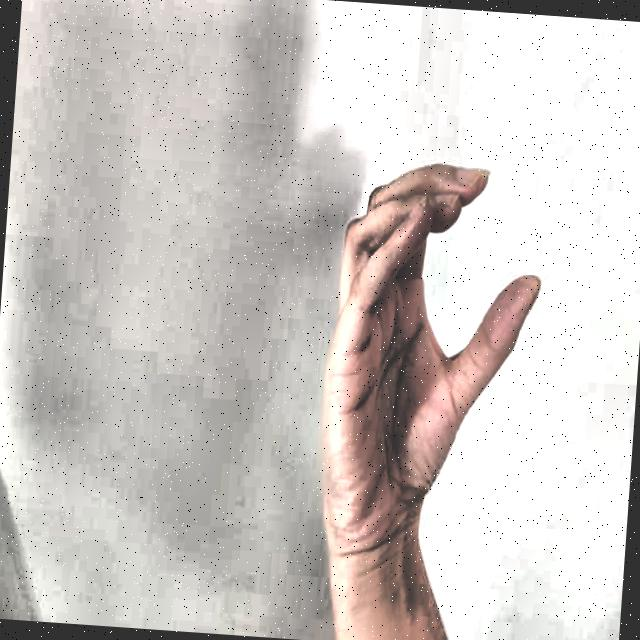A: (300, 130, 567, 593)
